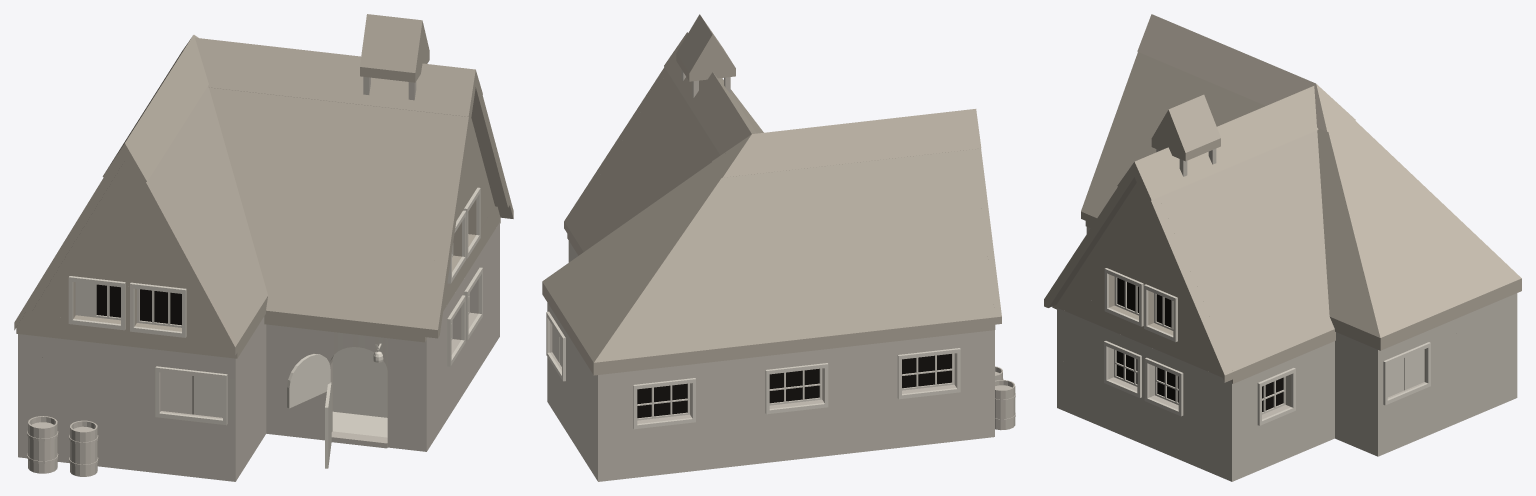
Rendered from tavern_clay.glb.
3 views of the same model, side by side, from view 1: azimuth 30°, elevation 25°; view 2: azimuth 150°, elevation 25°; view 3: azimuth 270°, elevation 25° (orthographic). The views are drawn at different scales.
Parts seen in each view (by area): view 1: roofs, walls, frames, openings; view 2: roofs, walls, frames, openings; view 3: roofs, walls, frames, openings.
Part boxes in pixels (x1,y1,x2,y2): roofs: [14, 14, 513, 358]; walls: [18, 77, 499, 481]; frames: [68, 187, 482, 468]; openings: [96, 284, 193, 413]; roofs: [542, 14, 1001, 375]; walls: [547, 70, 1015, 481]; frames: [546, 311, 960, 429]; openings: [637, 354, 951, 418]; roofs: [1044, 14, 1521, 383]; walls: [1057, 148, 1517, 481]; frames: [1104, 268, 1430, 425]; openings: [1116, 278, 1283, 411].
Size of the model in its own units: 10.27 by 7.26 by 9.71.
